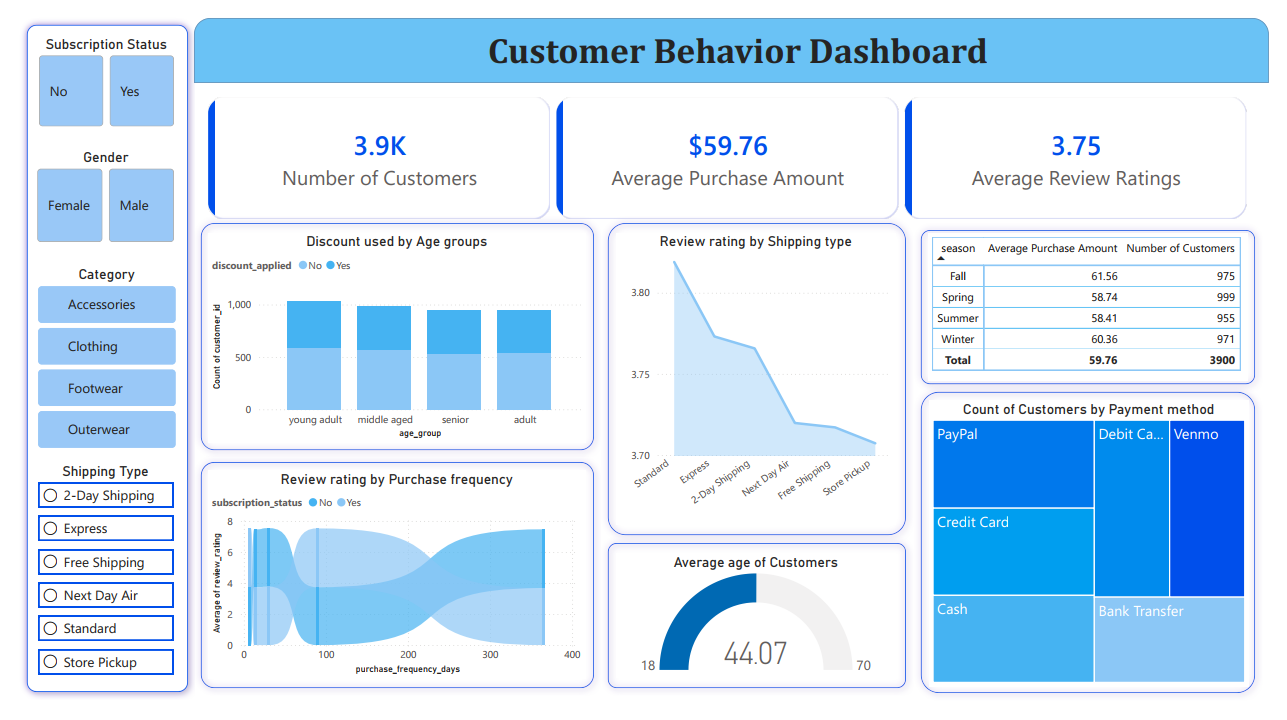

This screenshot's page, from the dashboard's own definition file:
{"tool":"powerbi","page":{"name":"Page 2","canvas":[1500,820],"ordinal":1},"visuals":[{"type":"cardVisual","fields":{"Data":["public customer.Number of Customers","public customer.Average Purchase Amount","public customer.Average Review Ratings"]},"box":[210,78.3,1281.7,180],"z":0},{"type":"shape","box":[210,0,1290,78.3],"z":1000},{"type":"shape","box":[1,0,210,818],"z":3000},{"type":"advancedSlicerVisual","title":"Subscription Status","fields":{"Values":["public customer.subscription_status"]},"box":[18.6,21.4,172.9,114.3],"z":4000},{"type":"advancedSlicerVisual","title":"Gender","fields":{"Values":["public customer.gender"]},"box":[16.7,156.7,175,118.3],"z":5000},{"type":"advancedSlicerVisual","title":"Category","fields":{"Values":["public customer.category"]},"box":[18,298,175,227],"z":6000},{"type":"listSlicer","title":"Shipping Type","fields":{"Values":["public customer.shipping_type"]},"box":[18,534,172,260],"z":7000},{"type":"shape","box":[210,238.3,488.3,288.3],"z":7001},{"type":"shape","box":[698.3,238.3,375,391.7],"z":7002},{"type":"shape","box":[210,525,488.3,288.3],"z":7003},{"type":"shape","box":[1073.6,246.4,418.2,201.8],"z":7004},{"type":"shape","box":[1073.6,440.9,418.2,378.2],"z":7005},{"type":"shape","box":[698.3,621.7,375,191.7],"z":7006},{"type":"columnChart","title":"Discount used by Age groups","fields":{"Category":["public customer.age_group"],"Y":["CountNonNull(public customer.customer_id)"],"Series":["public customer.discount_applied"]},"box":[226.7,258.3,453.3,251.7],"z":7007},{"type":"pivotTable","fields":{"Rows":["public customer.season"],"Values":["public customer.Average Purchase Amount","public customer.Number of Customers"]},"box":[1090.9,258.2,382.7,176.4],"z":7008},{"type":"treemap","title":"Count of Customers by Payment method","fields":{"Group":["public customer.payment_method"],"Values":["CountNonNull(public customer.customer_id)"]},"box":[1092.2,458.9,383.3,344.4],"z":7009},{"type":"ribbonChart","title":"Review rating by Purchase frequency","fields":{"Y":["Avg(public customer.review_rating)"],"Series":["public customer.subscription_status"],"Category":["public customer.purchase_frequency_days"]},"box":[226.7,543.3,453.3,250],"z":7010},{"type":"areaChart","title":"Review rating by Shipping type","fields":{"Category":["public customer.shipping_type"],"Y":["Avg(public customer.review_rating)"]},"box":[716.7,258.3,335,350],"z":7011},{"type":"gauge","title":"Average age of Customers","fields":{"Y":["Avg(public customer.age)"],"MinValue":["Min(public customer.age)1"],"MaxValue":["Max(public customer.age)2"]},"box":[716.7,643.3,335,150],"z":7012},{"type":"textbox","box":[226,8,1274,70],"z":7013}]}

Visuals, with their boxes in screenshot pixels (x1, y1, x2, y2), scaled from the page's 1500x820 canvas onto the 1287x720 screenshot:
cardVisual - public customer.Number of Customers x public customer.Average Purchase Amount: crop(180, 69, 1280, 227)
shape: crop(180, 0, 1286, 69)
shape: crop(1, 0, 181, 718)
"Subscription Status" advancedSlicerVisual: crop(16, 19, 164, 119)
"Gender" advancedSlicerVisual: crop(14, 138, 164, 241)
"Category" advancedSlicerVisual: crop(15, 262, 166, 461)
"Shipping Type" listSlicer: crop(15, 469, 163, 697)
shape: crop(180, 209, 599, 462)
shape: crop(599, 209, 921, 553)
shape: crop(180, 461, 599, 714)
shape: crop(921, 216, 1280, 394)
shape: crop(921, 387, 1280, 719)
shape: crop(599, 546, 921, 714)
"Discount used by Age groups" columnChart: crop(195, 227, 583, 448)
pivotTable - public customer.season x public customer.Average Purchase Amount: crop(936, 227, 1264, 382)
"Count of Customers by Payment method" treemap: crop(937, 403, 1266, 705)
"Review rating by Purchase frequency" ribbonChart: crop(195, 477, 583, 697)
"Review rating by Shipping type" areaChart: crop(615, 227, 902, 534)
"Average age of Customers" gauge: crop(615, 565, 902, 697)
textbox: crop(194, 7, 1286, 68)
